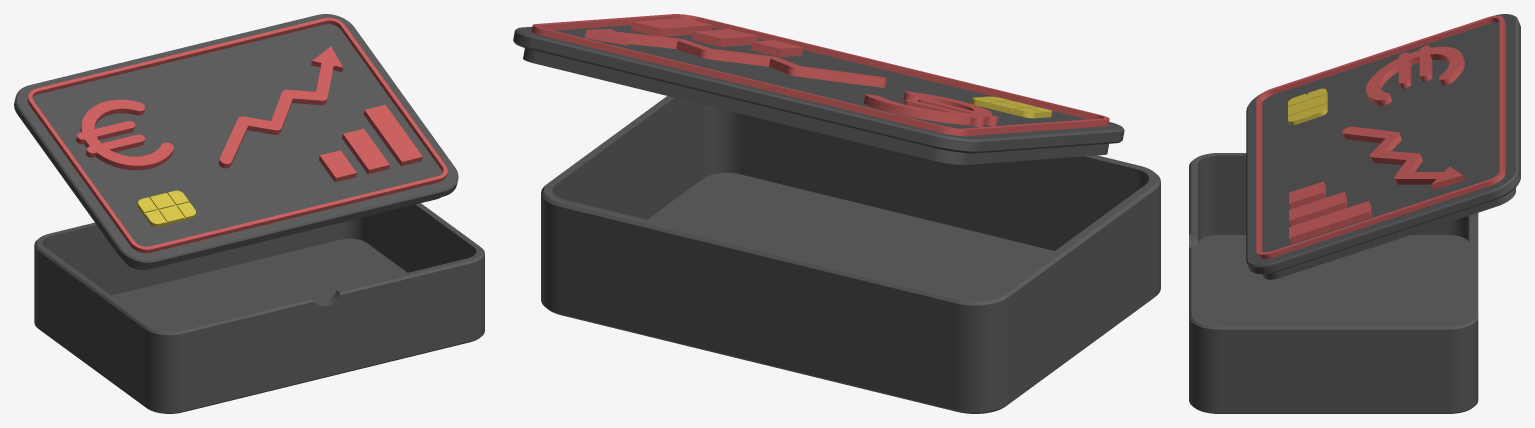
Rendered from economia-aperto-v3.glb.
3 renders of one model, left to right at view 1: azimuth 30°, elevation 25°; view 2: azimuth 150°, elevation 25°; view 3: azimuth 270°, elevation 25°, orthographic. The views are drawn at different scales.
Visible parts, largest first — view 1: 01_vaschetta, 02_coperchio_carta, 03_cornice, 04_euro, 05_freccia, 06_colonna_3, 07_chip, 06_colonna_2, 06_colonna_1; view 2: 01_vaschetta, 02_coperchio_carta, 03_cornice, 05_freccia, 04_euro, 06_colonna_3, 07_chip, 06_colonna_2, 06_colonna_1; view 3: 01_vaschetta, 02_coperchio_carta, 03_cornice, 05_freccia, 04_euro, 06_colonna_3, 07_chip, 06_colonna_2, 06_colonna_1.
Boxes of the visible parts, x1,y1,x2,y2 form: 01_vaschetta: (34,203,484,413); 02_coperchio_carta: (14,14,458,269); 03_cornice: (27,17,447,253); 04_euro: (76,99,173,170); 05_freccia: (218,46,343,168); 06_colonna_3: (363,104,422,166); 07_chip: (137,190,195,226); 06_colonna_2: (342,128,389,174); 06_colonna_1: (318,150,356,182); 01_vaschetta: (541,96,1160,413); 02_coperchio_carta: (513,25,1124,164); 03_cornice: (531,14,1109,136); 05_freccia: (585,29,887,87); 04_euro: (863,91,998,127); 06_colonna_3: (631,18,712,36); 07_chip: (971,96,1052,118); 06_colonna_2: (692,29,757,46); 06_colonna_1: (750,40,803,57); 01_vaschetta: (1189,153,1478,413); 02_coperchio_carta: (1246,14,1520,279); 03_cornice: (1256,15,1505,258); 05_freccia: (1342,126,1465,189); 04_euro: (1366,45,1464,105); 06_colonna_3: (1289,201,1371,243); 07_chip: (1288,88,1327,125); 06_colonna_2: (1289,191,1346,226); 06_colonna_1: (1289,181,1325,208).
Bounding box in the file's own units: 0.112 × 0.0693 × 0.0895.
